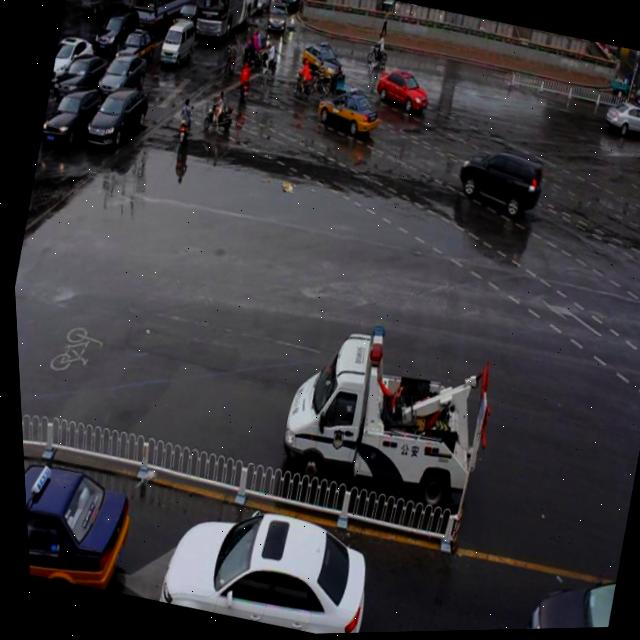bus: (263, 308, 494, 519)
car: (309, 79, 384, 144), (370, 64, 433, 120), (295, 39, 346, 87), (598, 99, 640, 145)
truck: (446, 139, 546, 225)
